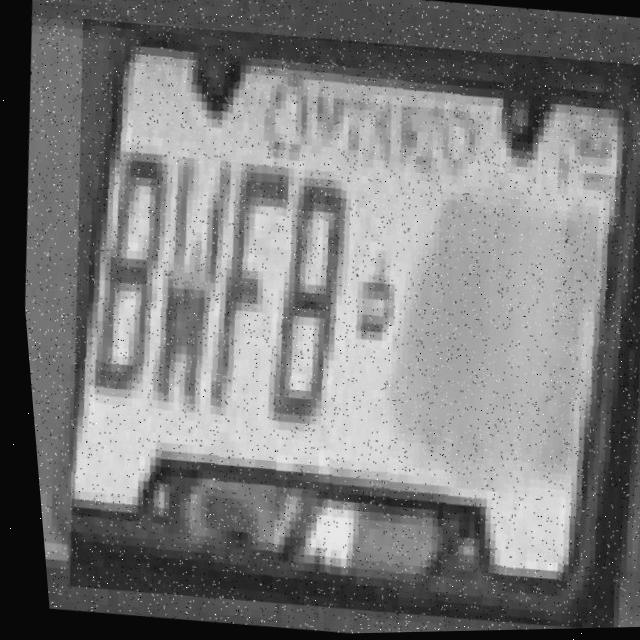LicensePlate: (22, 9, 640, 640)
